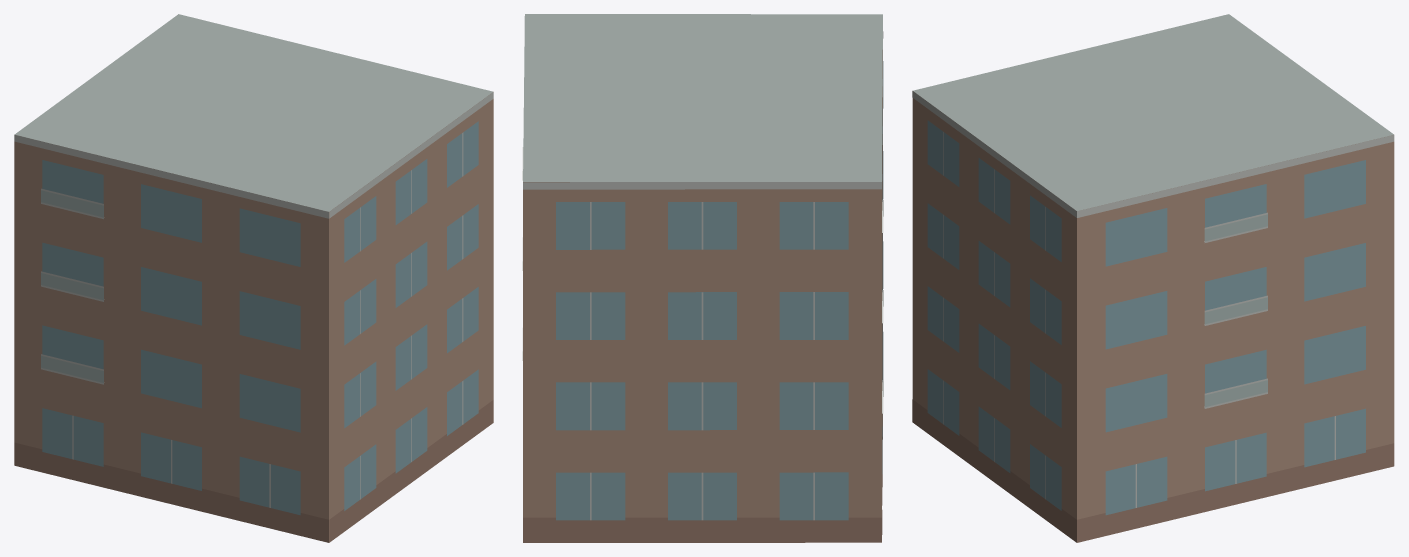
Rendered from survey-upis-32695326.glb.
3 views of the same model, side by side, from view 1: azimuth 30°, elevation 25°; view 2: azimuth 150°, elevation 25°; view 3: azimuth 270°, elevation 25° (orthographic). The views are drawn at different scales.
Visible parts, largest first — view 1: survey-upis-32695326.tmp; view 2: survey-upis-32695326.tmp; view 3: survey-upis-32695326.tmp.
Boxes of the visible parts, x1,y1,x2,y2 form: survey-upis-32695326.tmp: [14, 14, 493, 542]; survey-upis-32695326.tmp: [522, 14, 883, 542]; survey-upis-32695326.tmp: [912, 14, 1394, 542].
Bounding box in the file's own units: 14.93 × 11.7 × 15.41.
